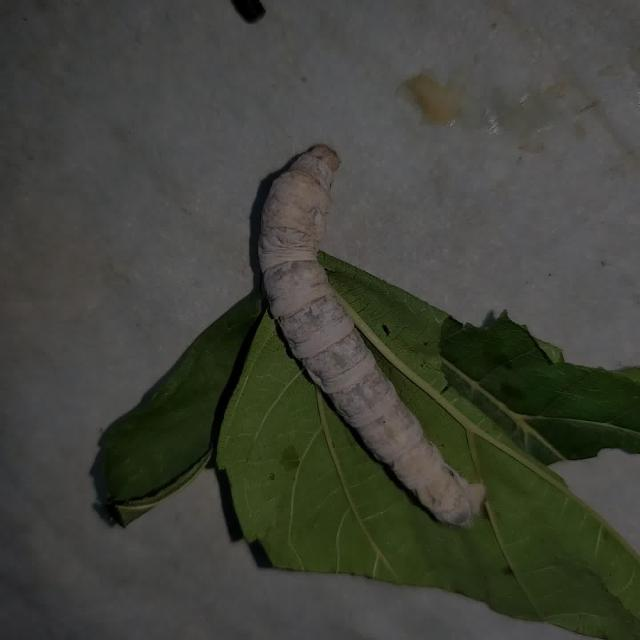Grasserie: (235, 121, 522, 548)
